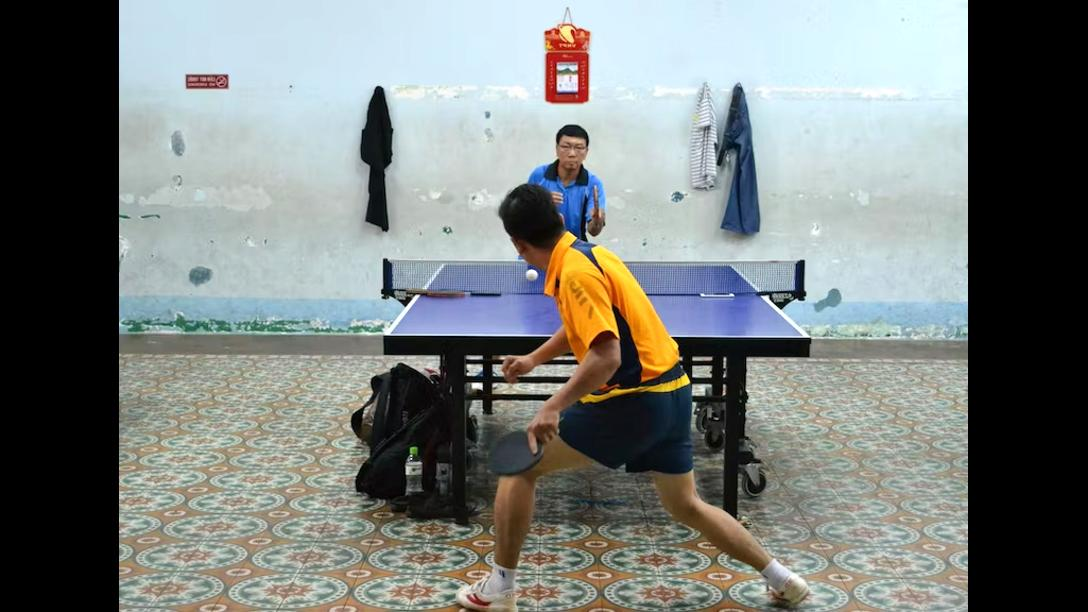Table-Tennis-Ball: (528, 269, 538, 281)
